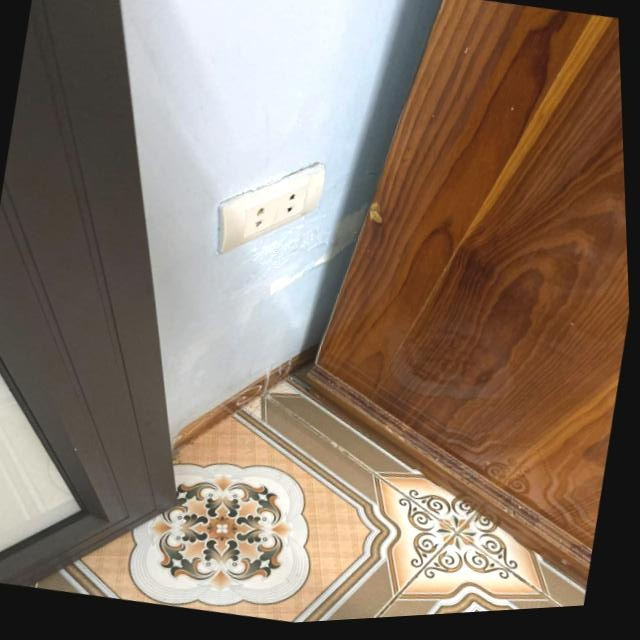outlet: (207, 144, 331, 273)
